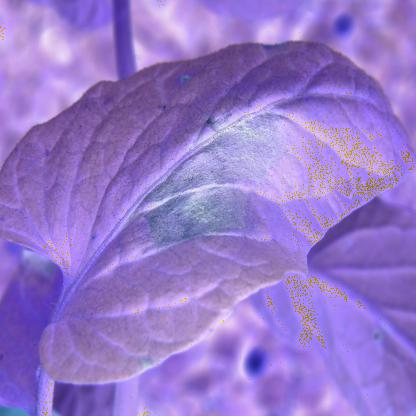Tomato leaf late blight: (2, 35, 411, 388)
